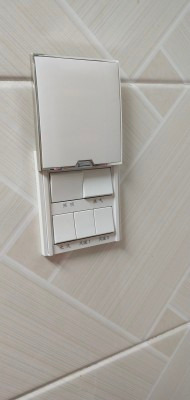switch: (49, 169, 87, 206), (79, 167, 117, 200), (71, 209, 101, 241), (53, 209, 79, 245), (92, 203, 119, 237)
